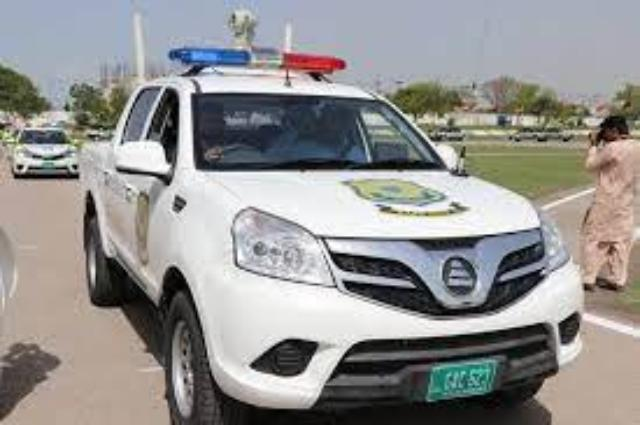police_car: (83, 41, 591, 425)
